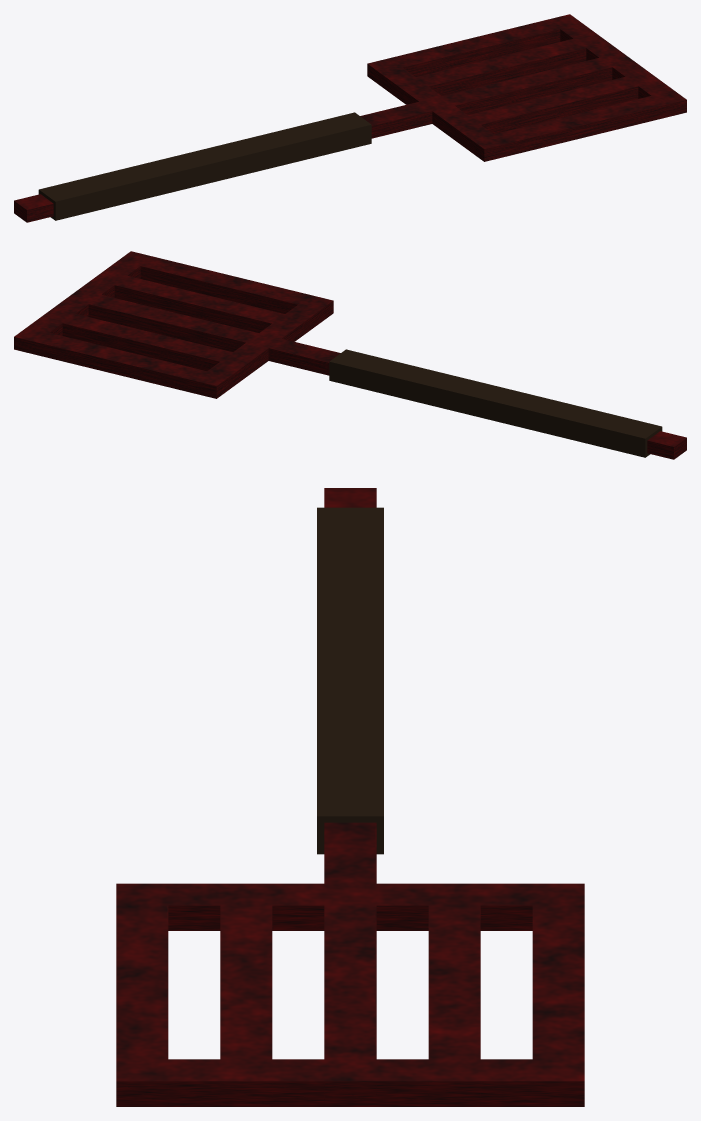
File: spatula 1.fbx
3 views of the same model, one above another, from view 1: azimuth 30°, elevation 25°; view 2: azimuth 150°, elevation 25°; view 3: azimuth 270°, elevation 25° (orthographic). The views are drawn at different scales.
Visible parts, largest first — view 1: Spatula, Spatula handle; view 2: Spatula, Spatula handle; view 3: Spatula, Spatula handle.
Part boxes in pixels (x1=…): Spatula: x1=14, y1=14, x2=686, y2=222; Spatula handle: x1=38, y1=112, x2=371, y2=220; Spatula: x1=14, y1=251, x2=686, y2=459; Spatula handle: x1=329, y1=349, x2=662, y2=457; Spatula: x1=116, y1=488, x2=584, y2=1106; Spatula handle: x1=317, y1=507, x2=383, y2=854.
Size of the model in its own units: 60 by 1.8 by 20.
Materials: 2 (1 with a texture image).
